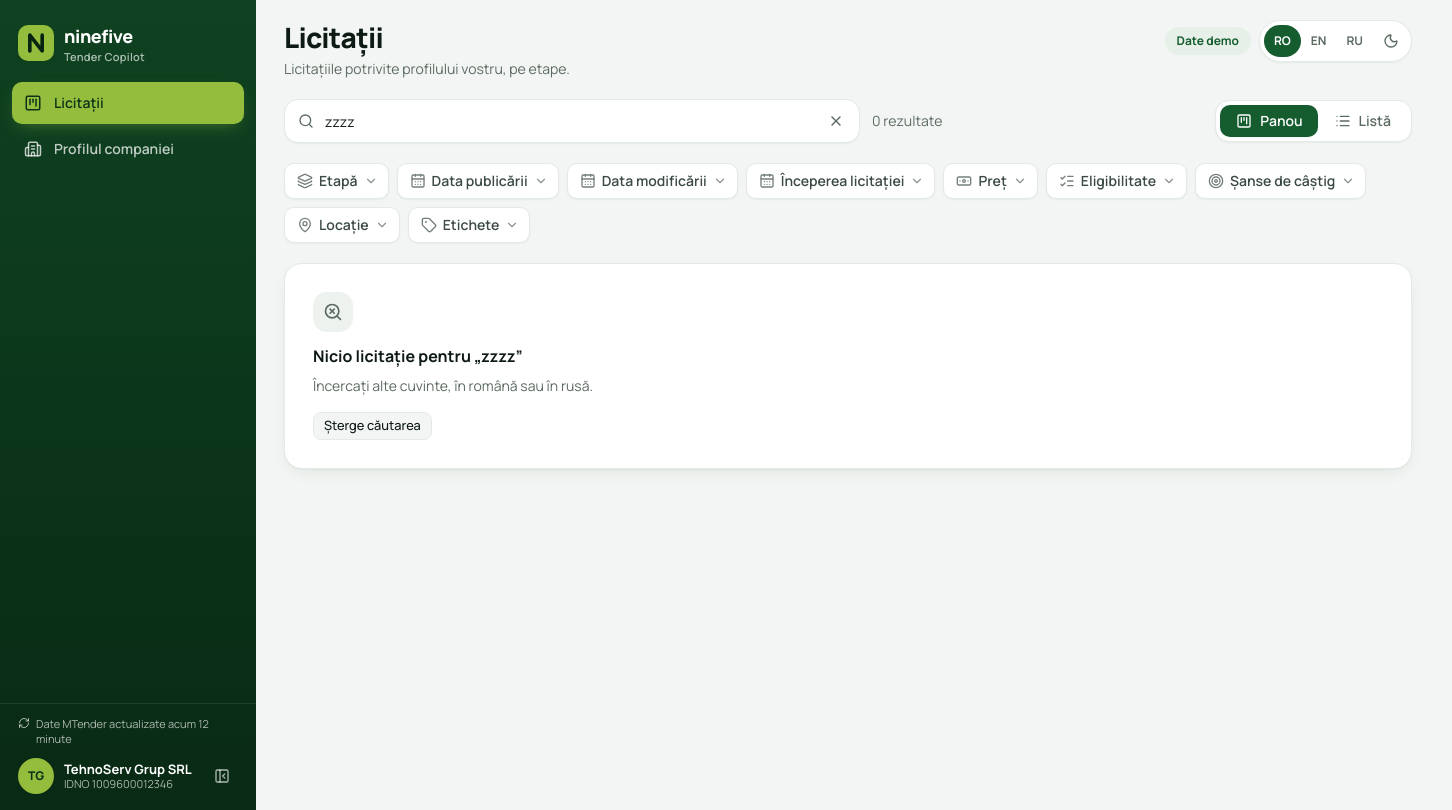
Test: board search › says when nothing matches and clears the search
This screenshot has width=1452, height=810.
Expected: the heading "Nicio licitație pentru „zzzz”" is shown, [313,344,523,368]
Click the button named "Șterge căutarea" at (836, 121), box [822,107,850,135]
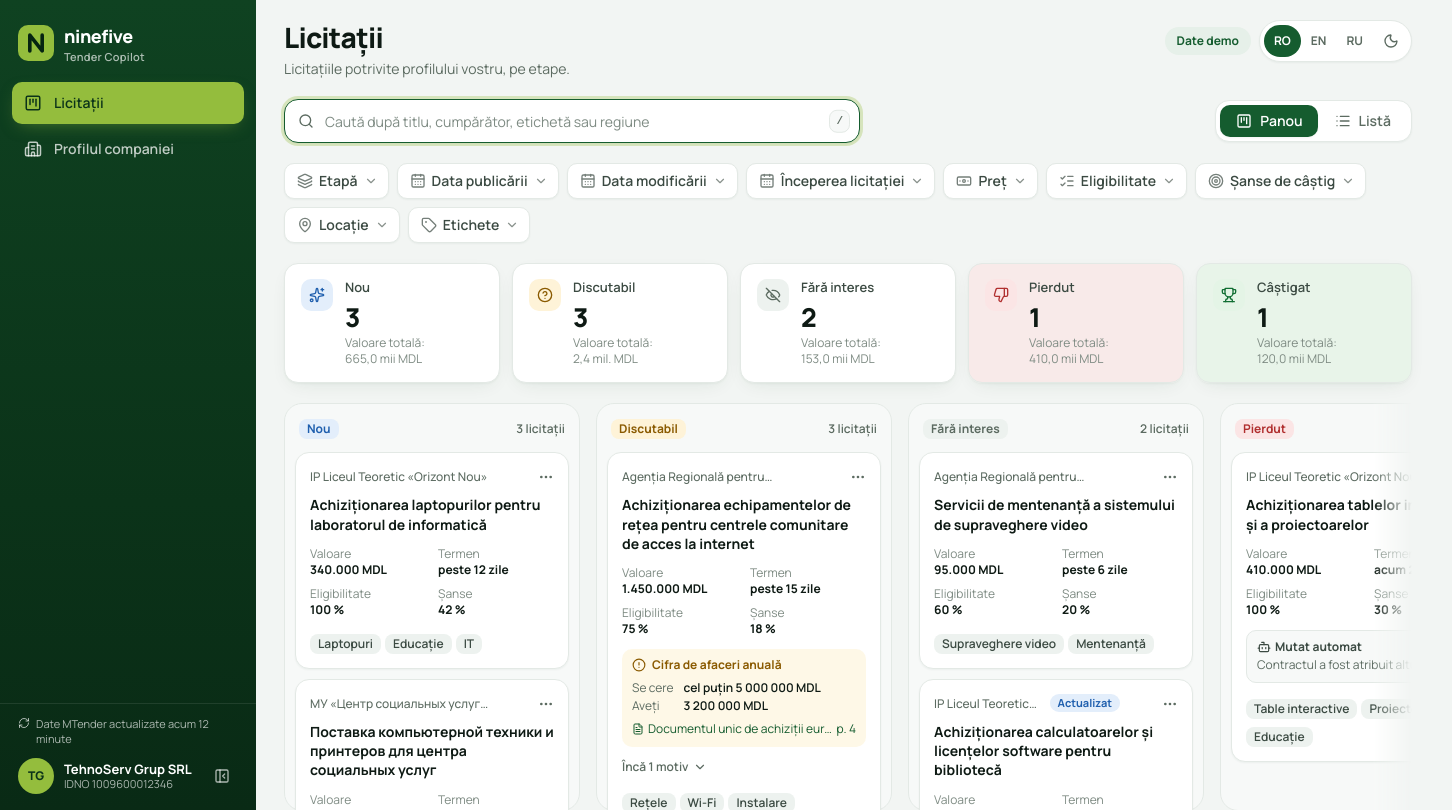
Expected: the link "Achiziționarea echipamentelor de rețea pentru centrele comunitare de acces la internet" is shown, [622,495,851,553]
Expected: the search field is empty, [284,99,860,143]
